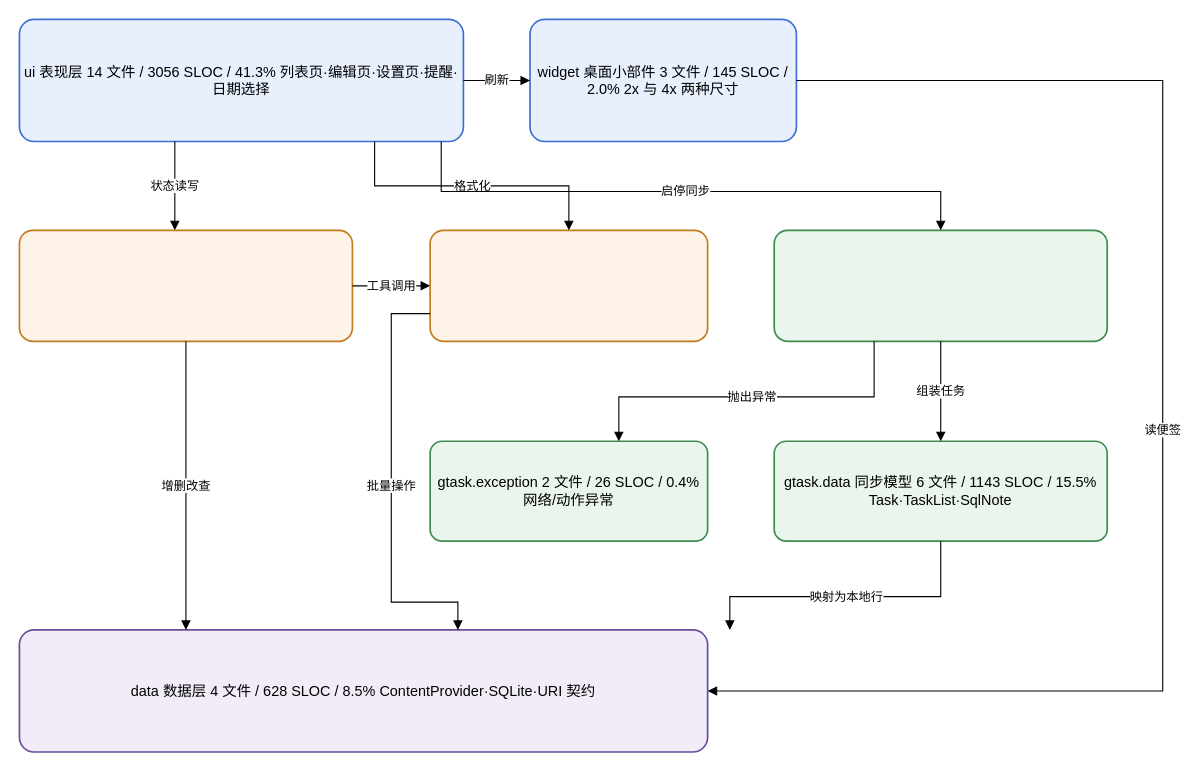
Some shapes in this 1201 by 773 pixel diagram are drawn without their labels. Here are the shapes that lost their labels. From the top down, the centre of each, then its label:
point (185, 285): model 领域模型 2 文件 / 455 SLOC / 6.2% Note·WorkingNote 状态机
point (568, 285): tool 工具 4 文件 / 678 SLOC / 9.2% 备份·数据变换·资源解析
point (940, 285): gtask.remote 同步 4 文件 / 1264 SLOC / 17.1% 会话·增量同步·SyncService
